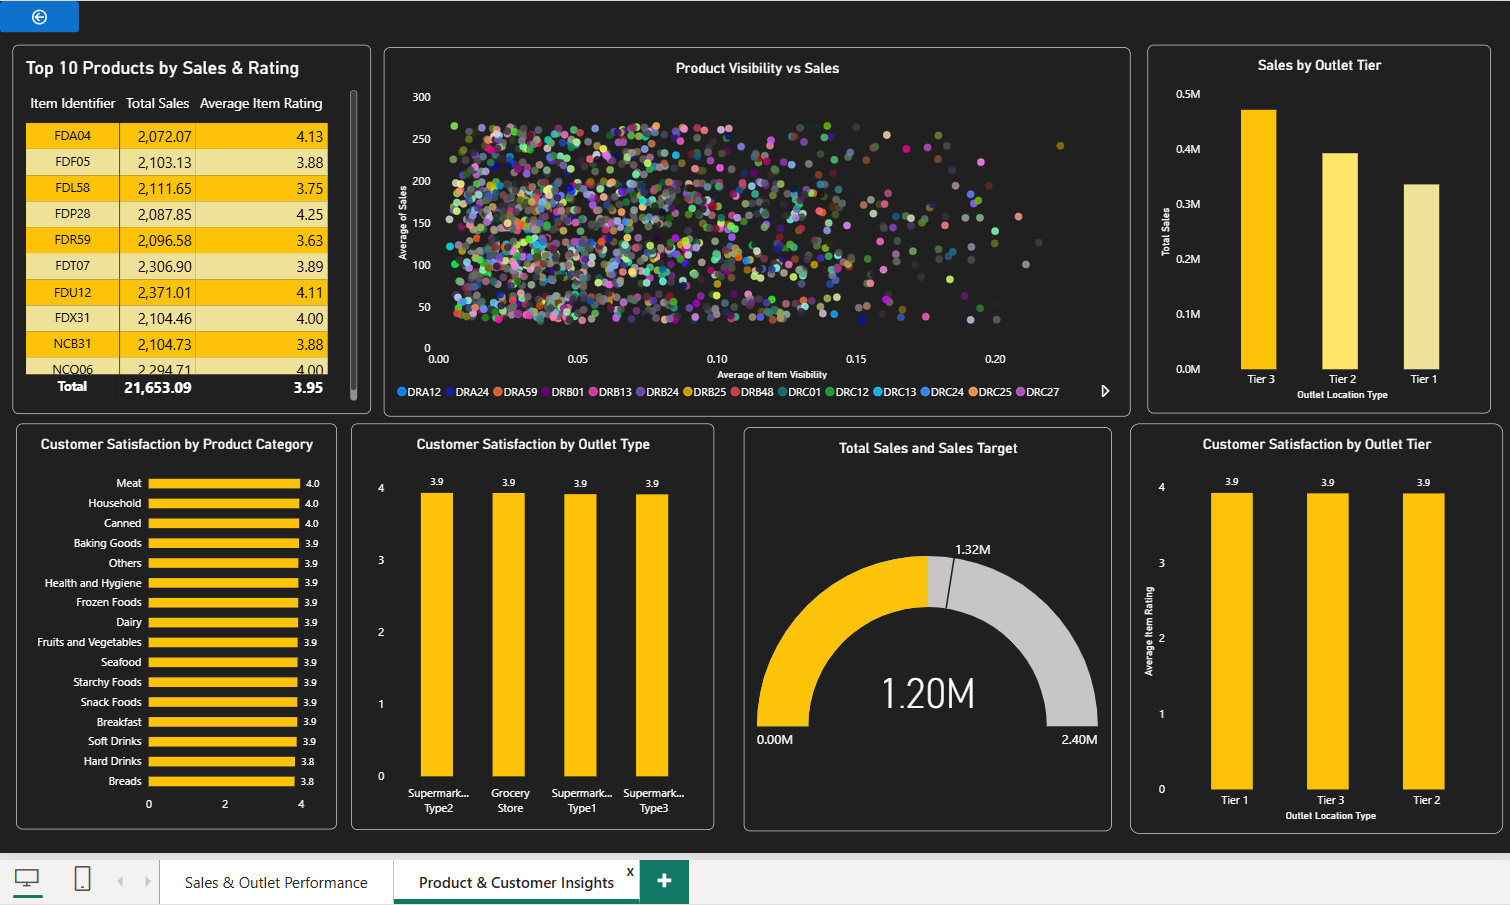

The page's visual inventory and layout, read from the dashboard file:
{"tool":"powerbi","page":{"name":"Product & Customer Insights","canvas":[1920,1080],"ordinal":1},"visuals":[{"type":"actionButton","box":[0,0,100,40],"z":0},{"type":"clusteredColumnChart","title":"Sales by Outlet Tier","fields":{"Category":["Outlet Location.Outlet Location Type"],"Y":["BlinkIT Grocery Data.Total Sales"]},"box":[1455,55,435,467.5],"z":1000},{"type":"scatterChart","title":"Product Visibility vs Sales","fields":{"Series":["BlinkIT Grocery Data.Item Identifier"],"X":["Avg(BlinkIT Grocery Data.Item Visibility)"],"Y":["Avg(BlinkIT Grocery Data.Sales)"]},"box":[486,58,946,468],"z":2000},{"type":"barChart","title":"Customer Satisfaction by Product Category","fields":{"Category":["Items.Item Type"],"Y":["BlinkIT Grocery Data.Average Item Rating"]},"box":[20,536,406,514],"z":3000},{"type":"columnChart","title":"Customer Satisfaction by Outlet Type","fields":{"Category":["Outlet Info.Outlet Type"],"Y":["BlinkIT Grocery Data.Average Item Rating"]},"box":[445,535,460,515],"z":4000},{"type":"columnChart","title":"Customer Satisfaction by Outlet Tier","fields":{"Category":["Outlet Location.Outlet Location Type"],"Y":["BlinkIT Grocery Data.Average Item Rating"]},"box":[1432.5,535,472.5,520],"z":5000},{"type":"gauge","fields":{"TargetValue":["BlinkIT Grocery Data.Sales Target"],"Y":["BlinkIT Grocery Data.Total Sales"]},"box":[942,540,466,512],"z":6000},{"type":"pivotTable","title":"Top 10 Products by Sales & Rating","fields":{"Rows":["BlinkIT Grocery Data.Item Identifier"],"Values":["BlinkIT Grocery Data.Total Sales","BlinkIT Grocery Data.Average Item Rating"]},"box":[16,56,454,468],"z":7000}]}

Visuals, with their boxes on the page's 1920x1080 design canvas (x1, y1, x2, y2). These are canvas units, not pixel positions in the 1510x905 screenshot, which may show the page scaled, cropped or inside an application window:
actionButton: 0/0/100/40
"Sales by Outlet Tier" clusteredColumnChart: 1455/55/1890/522
"Product Visibility vs Sales" scatterChart: 486/58/1432/526
"Customer Satisfaction by Product Category" barChart: 20/536/426/1050
"Customer Satisfaction by Outlet Type" columnChart: 445/535/905/1050
"Customer Satisfaction by Outlet Tier" columnChart: 1432/535/1905/1055
gauge - BlinkIT Grocery Data.Sales Target x BlinkIT Grocery Data.Total Sales: 942/540/1408/1052
"Top 10 Products by Sales & Rating" pivotTable: 16/56/470/524
